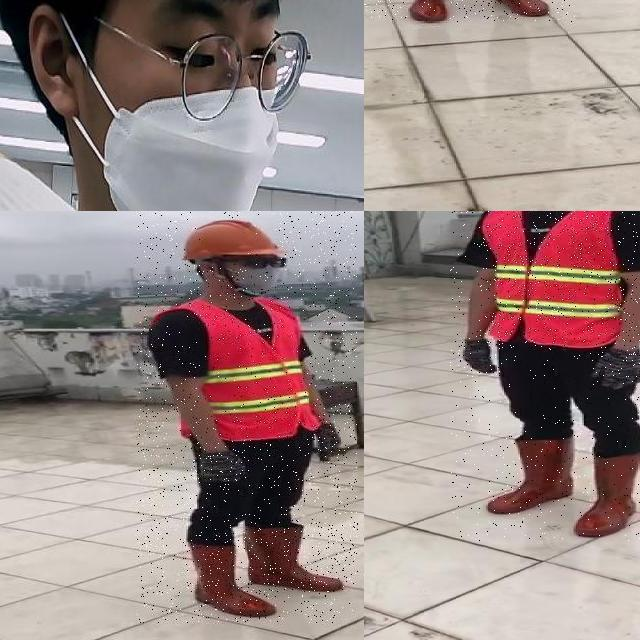BOOTS: (184, 533, 280, 621), (249, 522, 359, 592), (488, 436, 577, 515), (574, 447, 640, 541), (482, 0, 558, 17), (402, 0, 450, 21)
GLASS: (191, 253, 292, 272)
GLOVE: (196, 444, 250, 484), (593, 349, 640, 394), (308, 421, 350, 466), (463, 339, 499, 375)
HELMET: (179, 218, 280, 264)
VEST: (481, 211, 640, 349), (165, 300, 318, 441)
